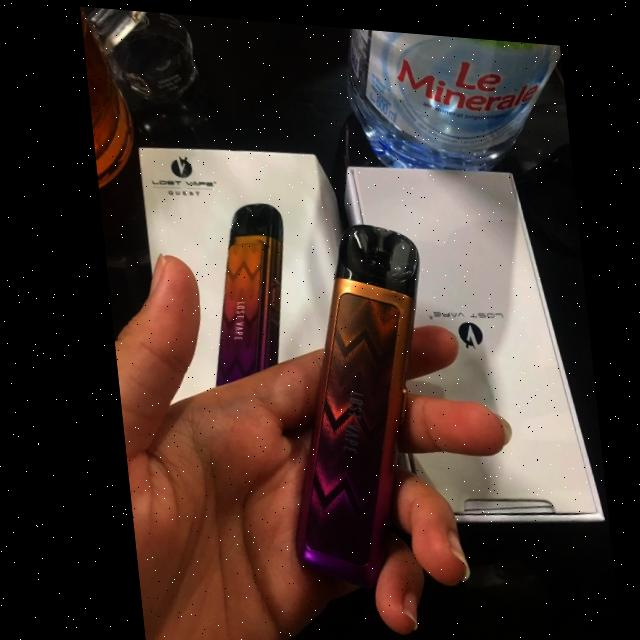vape: (256, 209, 442, 589), (195, 197, 285, 387)
